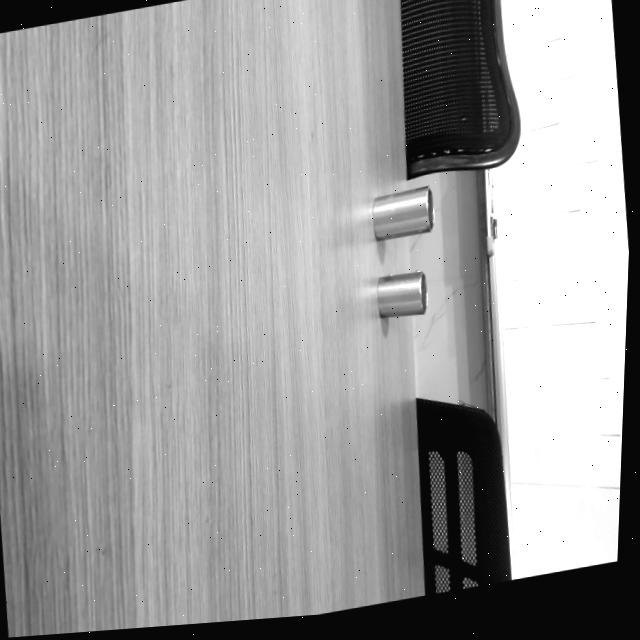Co_Lon: (368, 184, 438, 240)
Co_Nho: (375, 269, 429, 317)
